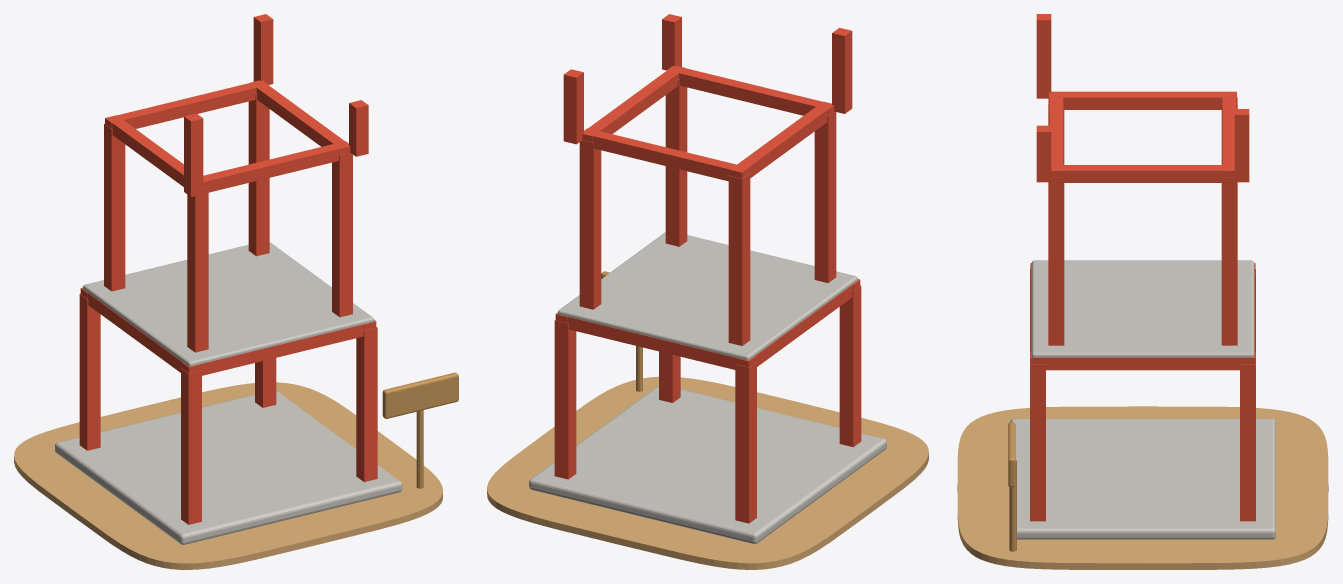
Rendered from clock-tower-stage-1.50dee7f5.glb.
3 renders of one model, left to right at view 1: azimuth 30°, elevation 25°; view 2: azimuth 150°, elevation 25°; view 3: azimuth 270°, elevation 25°, orthographic. The views are drawn at different scales.
Parts seen in each view (by area): view 1: ClockTower_Stage1__T_concrete, ClockTower_Stage1__T_beam, ClockTower_Stage1__T_dirt, ClockTower_Stage1__T_wood; view 2: ClockTower_Stage1__T_concrete, ClockTower_Stage1__T_beam, ClockTower_Stage1__T_dirt; view 3: ClockTower_Stage1__T_concrete, ClockTower_Stage1__T_beam, ClockTower_Stage1__T_dirt, ClockTower_Stage1__T_wood.
Boxes of the visible parts, bbox=[...] form: ClockTower_Stage1__T_concrete: bbox=[55, 242, 402, 544]; ClockTower_Stage1__T_beam: bbox=[79, 14, 377, 524]; ClockTower_Stage1__T_dirt: bbox=[14, 382, 442, 569]; ClockTower_Stage1__T_wood: bbox=[382, 372, 458, 488]; ClockTower_Stage1__T_concrete: bbox=[529, 232, 886, 544]; ClockTower_Stage1__T_beam: bbox=[554, 14, 861, 523]; ClockTower_Stage1__T_dirt: bbox=[487, 376, 928, 569]; ClockTower_Stage1__T_concrete: bbox=[1010, 260, 1275, 539]; ClockTower_Stage1__T_beam: bbox=[1030, 14, 1255, 521]; ClockTower_Stage1__T_dirt: bbox=[957, 406, 1328, 569]; ClockTower_Stage1__T_wood: bbox=[1008, 422, 1016, 551].
Size of the model in its own units: 4.98 by 6.18 by 4.8.
